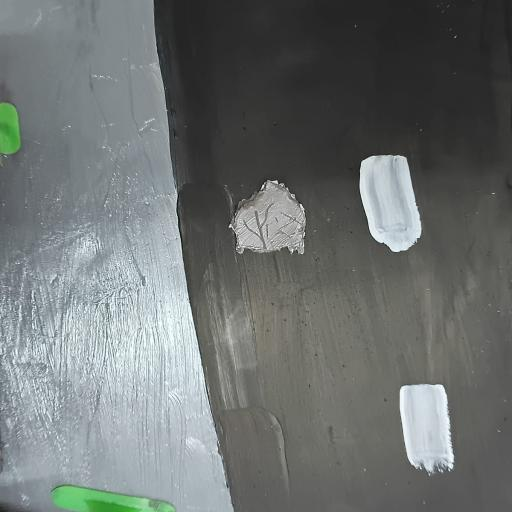porthole: (220, 177, 330, 265)
